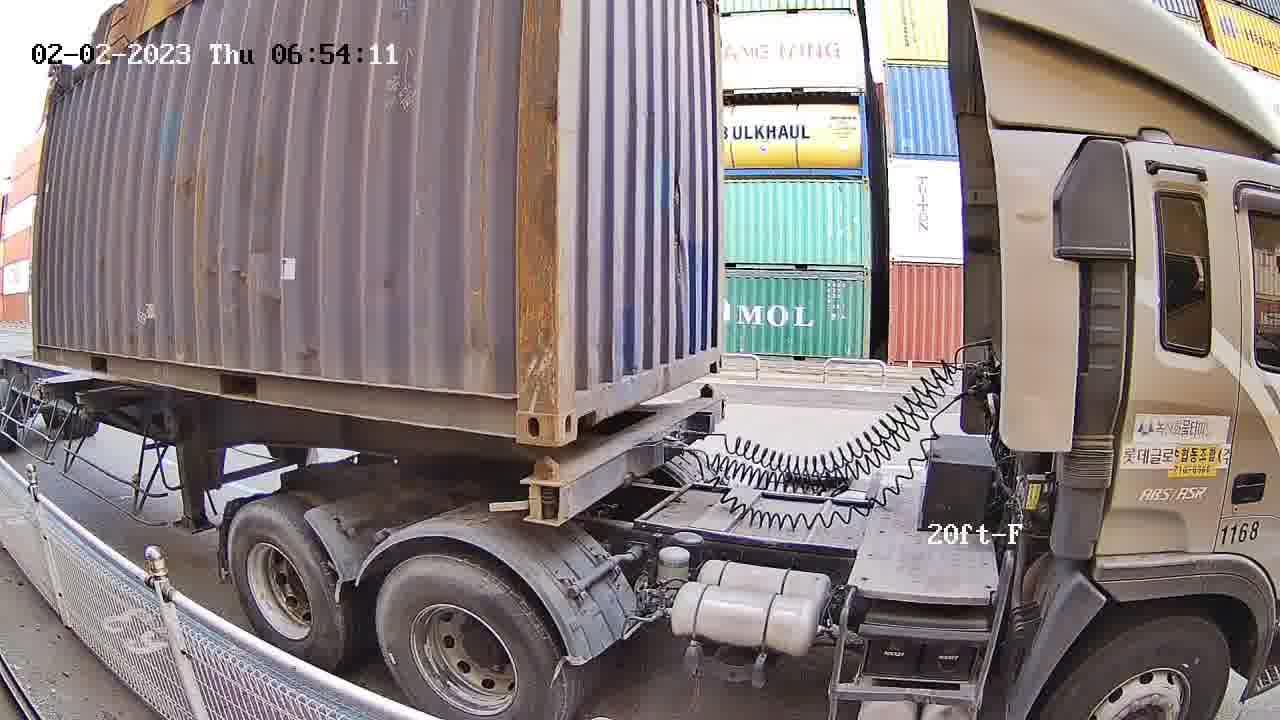Chassis: (518, 393, 724, 525)
Cone: (529, 457, 560, 523), (698, 382, 715, 401)
Hole_L: (556, 359, 606, 446)
Hole_R: (477, 366, 558, 448)
Tire: (375, 557, 565, 718), (228, 504, 344, 672)
